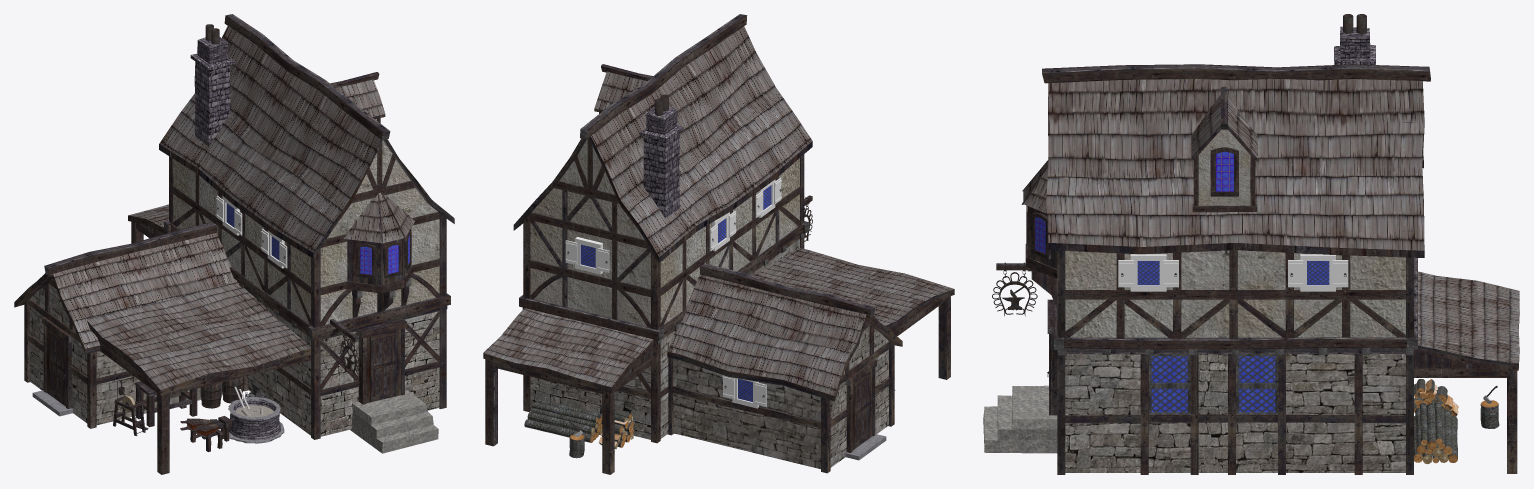
The model's file is blacksmith.glb.
The picture shows the model from 3 angles, left to right: view 1: azimuth 30°, elevation 25°; view 2: azimuth 150°, elevation 25°; view 3: azimuth 270°, elevation 25°; orthographic projection. The views are drawn at different scales.
Visible parts, largest first — view 1: blacksmith; view 2: blacksmith; view 3: blacksmith.
Part boxes in pixels (x1,y1,x2,y2): blacksmith: (14, 14, 454, 474); blacksmith: (483, 14, 954, 474); blacksmith: (983, 14, 1519, 474).
Size of the model in its own units: 9.83 by 9.81 by 12.14.
22 materials, 20 textured.
